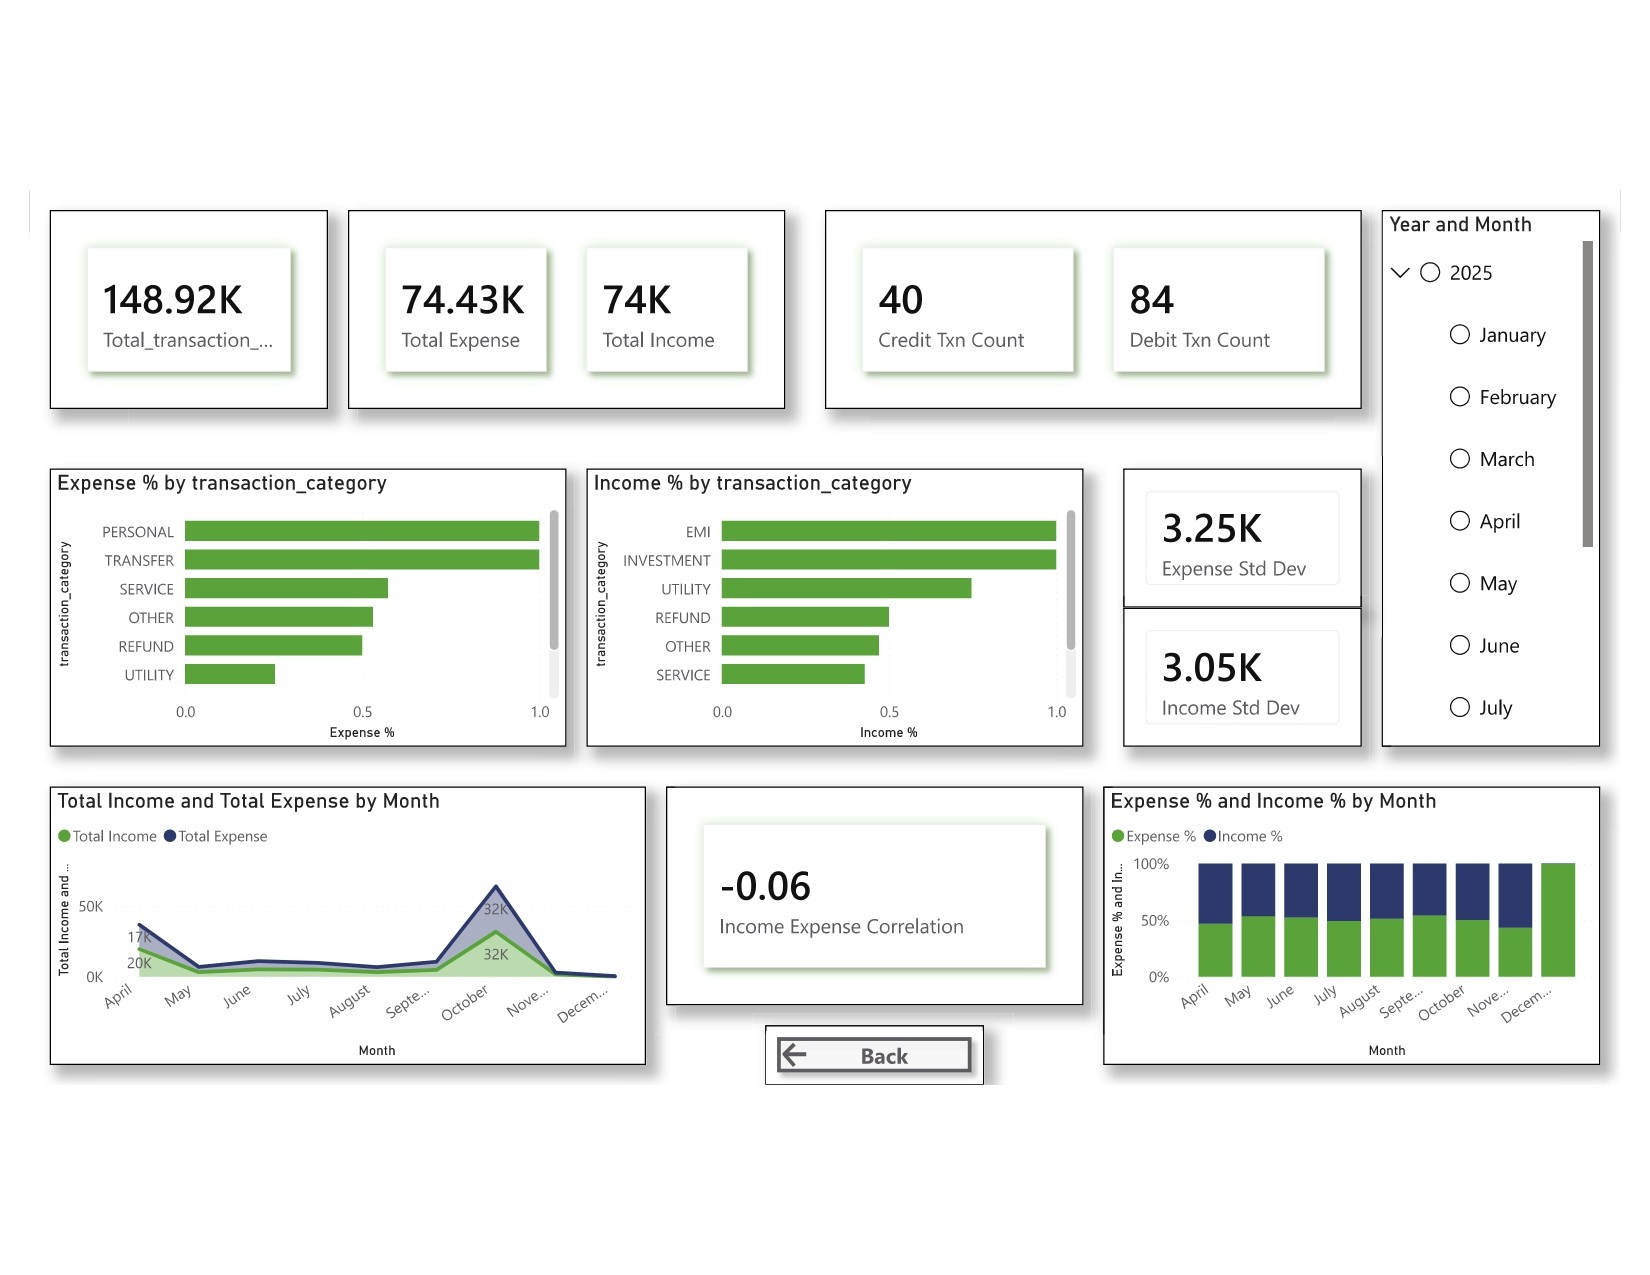

The dashboard page shown, as its layout file describes it:
{"tool":"powerbi","page":{"name":"Dashboard_2","canvas":[1280,720],"ordinal":1},"visuals":[{"type":"cardVisual","title":"Total Customers (18–25)","fields":{"Data":["fact_transactions.Total_transaction_Amount"]},"box":[16,16,224,160],"z":0},{"type":"cardVisual","title":"Total Customers (18–25)","fields":{"Data":["fact_transactions.Credit Txn Count","fact_transactions.Debit Txn Count"]},"box":[640,16,432,160],"z":1000},{"type":"clusteredBarChart","fields":{"Category":["fact_transactions.transaction_category"],"Y":["fact_transactions.Expense %"]},"box":[16,224,416,224],"z":2000},{"type":"clusteredBarChart","fields":{"Category":["fact_transactions.transaction_category"],"Y":["fact_transactions.Income %"]},"box":[448,224,400,224],"z":3000},{"type":"hundredPercentStackedColumnChart","fields":{"Category":["fact_transactions.txn_date.Variation.Date Hierarchy.Year","fact_transactions.txn_date.Variation.Date Hierarchy.Quarter","fact_transactions.txn_date.Variation.Date Hierarchy.Month","fact_transactions.txn_date.Variation.Date Hierarchy.Day","fact_transactions.transaction_category"],"Y":["fact_transactions.Expense %","fact_transactions.Income %"]},"box":[864,480,400,224],"z":4000},{"type":"cardVisual","title":"Total Customers (18–25)","fields":{"Data":["fact_transactions.Total Expense","fact_transactions.Total Income"]},"box":[256,16,352,160],"z":5000},{"type":"listSlicer","fields":{"Values":["fact_transactions.txn_date.Variation.Date Hierarchy.Year","fact_transactions.txn_date.Variation.Date Hierarchy.Month"]},"box":[1088,16,176,432],"z":6000},{"type":"actionButton","box":[592,672,176,48],"z":7000},{"type":"cardVisual","fields":{"Data":["fact_transactions.Expense Std Dev"]},"box":[880,224,192,112],"z":8000},{"type":"cardVisual","fields":{"Data":["fact_transactions.Income Expense Correlation"]},"box":[512,480,336,176],"z":9000},{"type":"stackedAreaChart","fields":{"Category":["fact_transactions.txn_date.Variation.Date Hierarchy.Year","fact_transactions.txn_date.Variation.Date Hierarchy.Quarter","fact_transactions.txn_date.Variation.Date Hierarchy.Month","fact_transactions.txn_date.Variation.Date Hierarchy.Day"],"Y":["fact_transactions.Total Income","fact_transactions.Total Expense"]},"box":[16,480,480,224],"z":10000},{"type":"cardVisual","fields":{"Data":["fact_transactions.Income Std Dev"]},"box":[880,336,192,112],"z":11000}]}

Visuals, with their boxes in screenshot pixels (x1, y1, x2, y2):
"Total Customers (18–25)" cardVisual: [x1=58, y1=213, x2=333, y2=409]
"Total Customers (18–25)" cardVisual: [x1=823, y1=213, x2=1353, y2=409]
clusteredBarChart - fact_transactions.transaction_category x fact_transactions.Expense %: [x1=58, y1=468, x2=568, y2=743]
clusteredBarChart - fact_transactions.transaction_category x fact_transactions.Income %: [x1=588, y1=468, x2=1078, y2=743]
hundredPercentStackedColumnChart - fact_transactions.txn_date.Variation.Date Hierarchy.Year x fact_transactions.txn_date.Variation.Date Hierarchy.Quarter: [x1=1098, y1=782, x2=1589, y2=1057]
"Total Customers (18–25)" cardVisual: [x1=353, y1=213, x2=784, y2=409]
listSlicer - fact_transactions.txn_date.Variation.Date Hierarchy.Year x fact_transactions.txn_date.Variation.Date Hierarchy.Month: [x1=1373, y1=213, x2=1589, y2=743]
actionButton: [x1=765, y1=1017, x2=980, y2=1076]
cardVisual - fact_transactions.Expense Std Dev: [x1=1118, y1=468, x2=1353, y2=605]
cardVisual - fact_transactions.Income Expense Correlation: [x1=666, y1=782, x2=1078, y2=998]
stackedAreaChart - fact_transactions.txn_date.Variation.Date Hierarchy.Year x fact_transactions.txn_date.Variation.Date Hierarchy.Quarter: [x1=58, y1=782, x2=647, y2=1057]
cardVisual - fact_transactions.Income Std Dev: [x1=1118, y1=605, x2=1353, y2=743]
